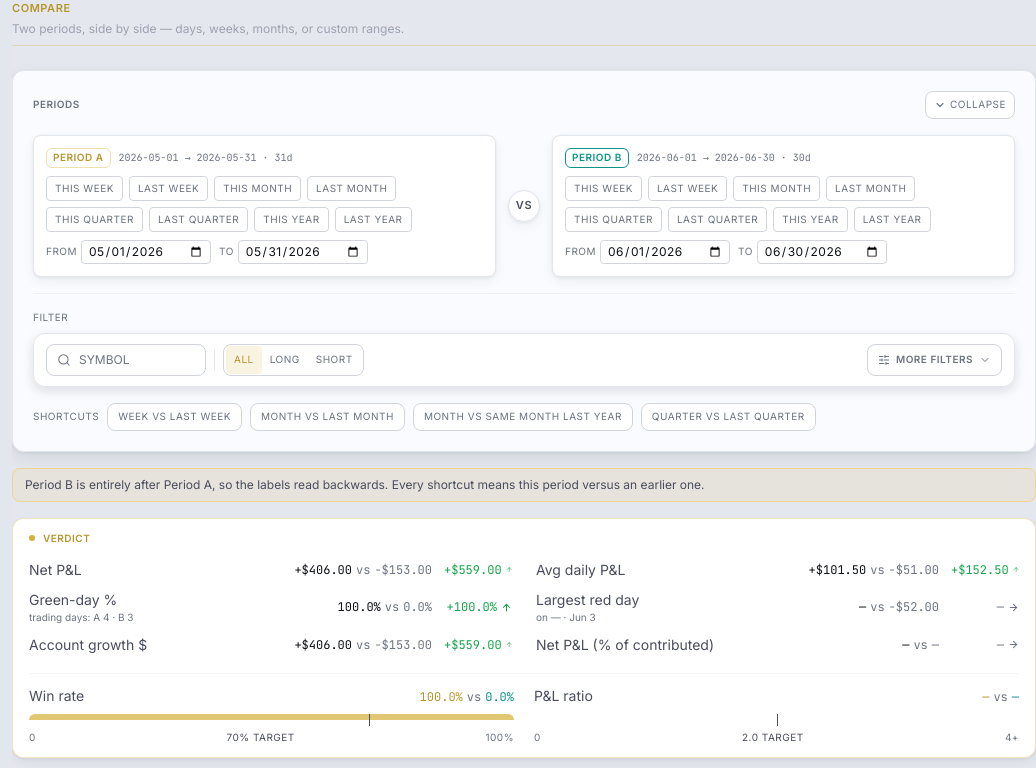
AnalyticsCompareTab — the full filter bar › the mistake control still works exactly as before
Click the button "More filters" at (934,360), box [867,344,1002,376]
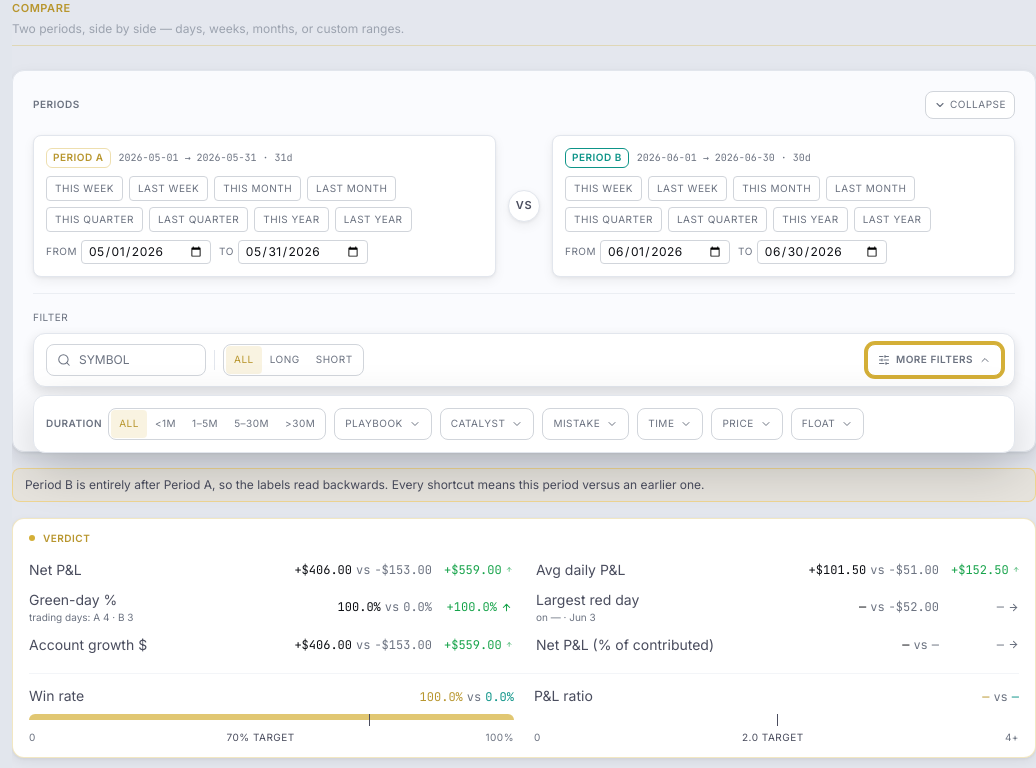
Click the button "Mistake" at (586,424), box [542,408,629,440]
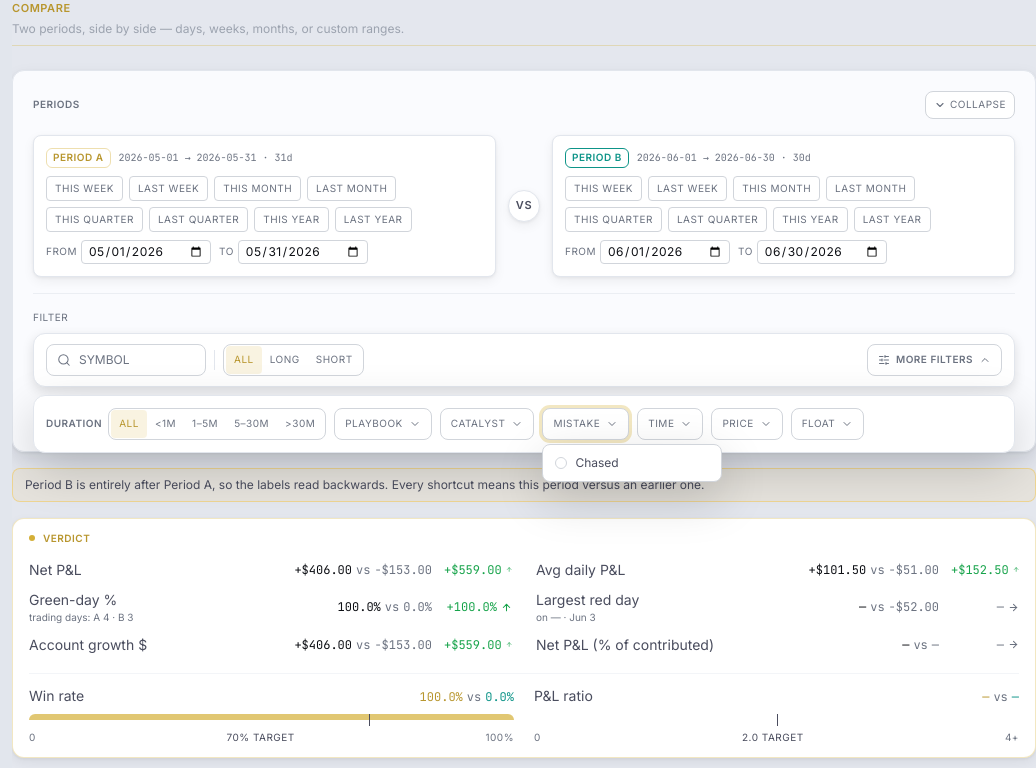
Click the button "Chased" at (632,462), box [547,448,717,476]
(page scrolled)
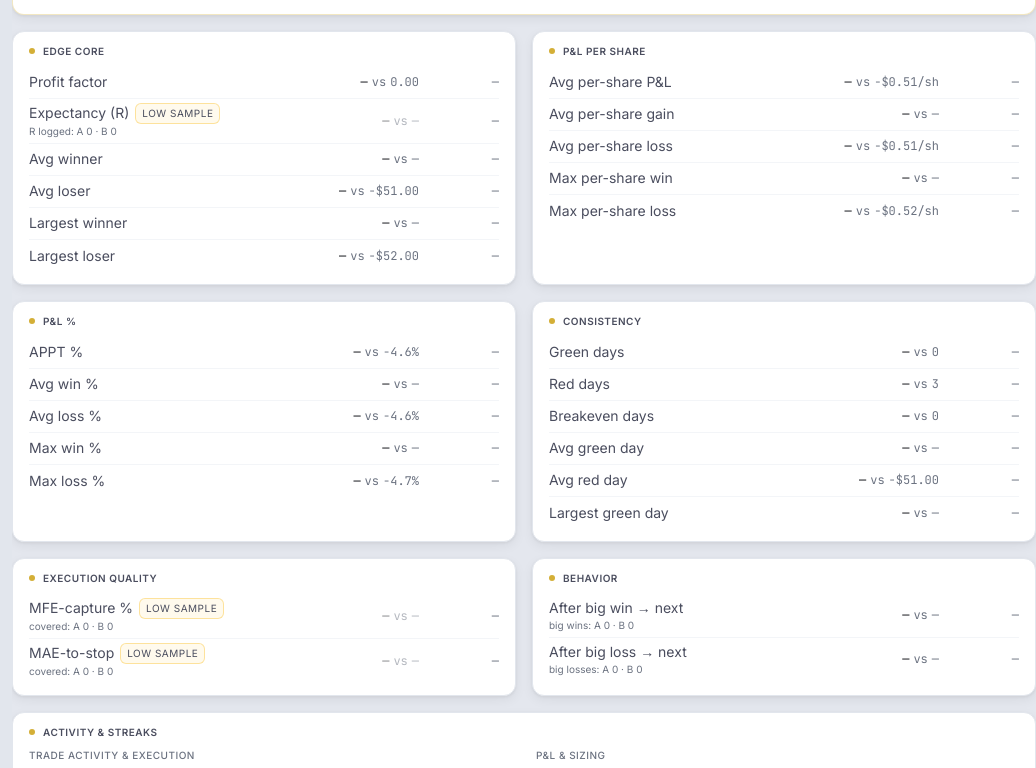
Result: the element showing "—vs3" is shown at [902,376,939,392]
